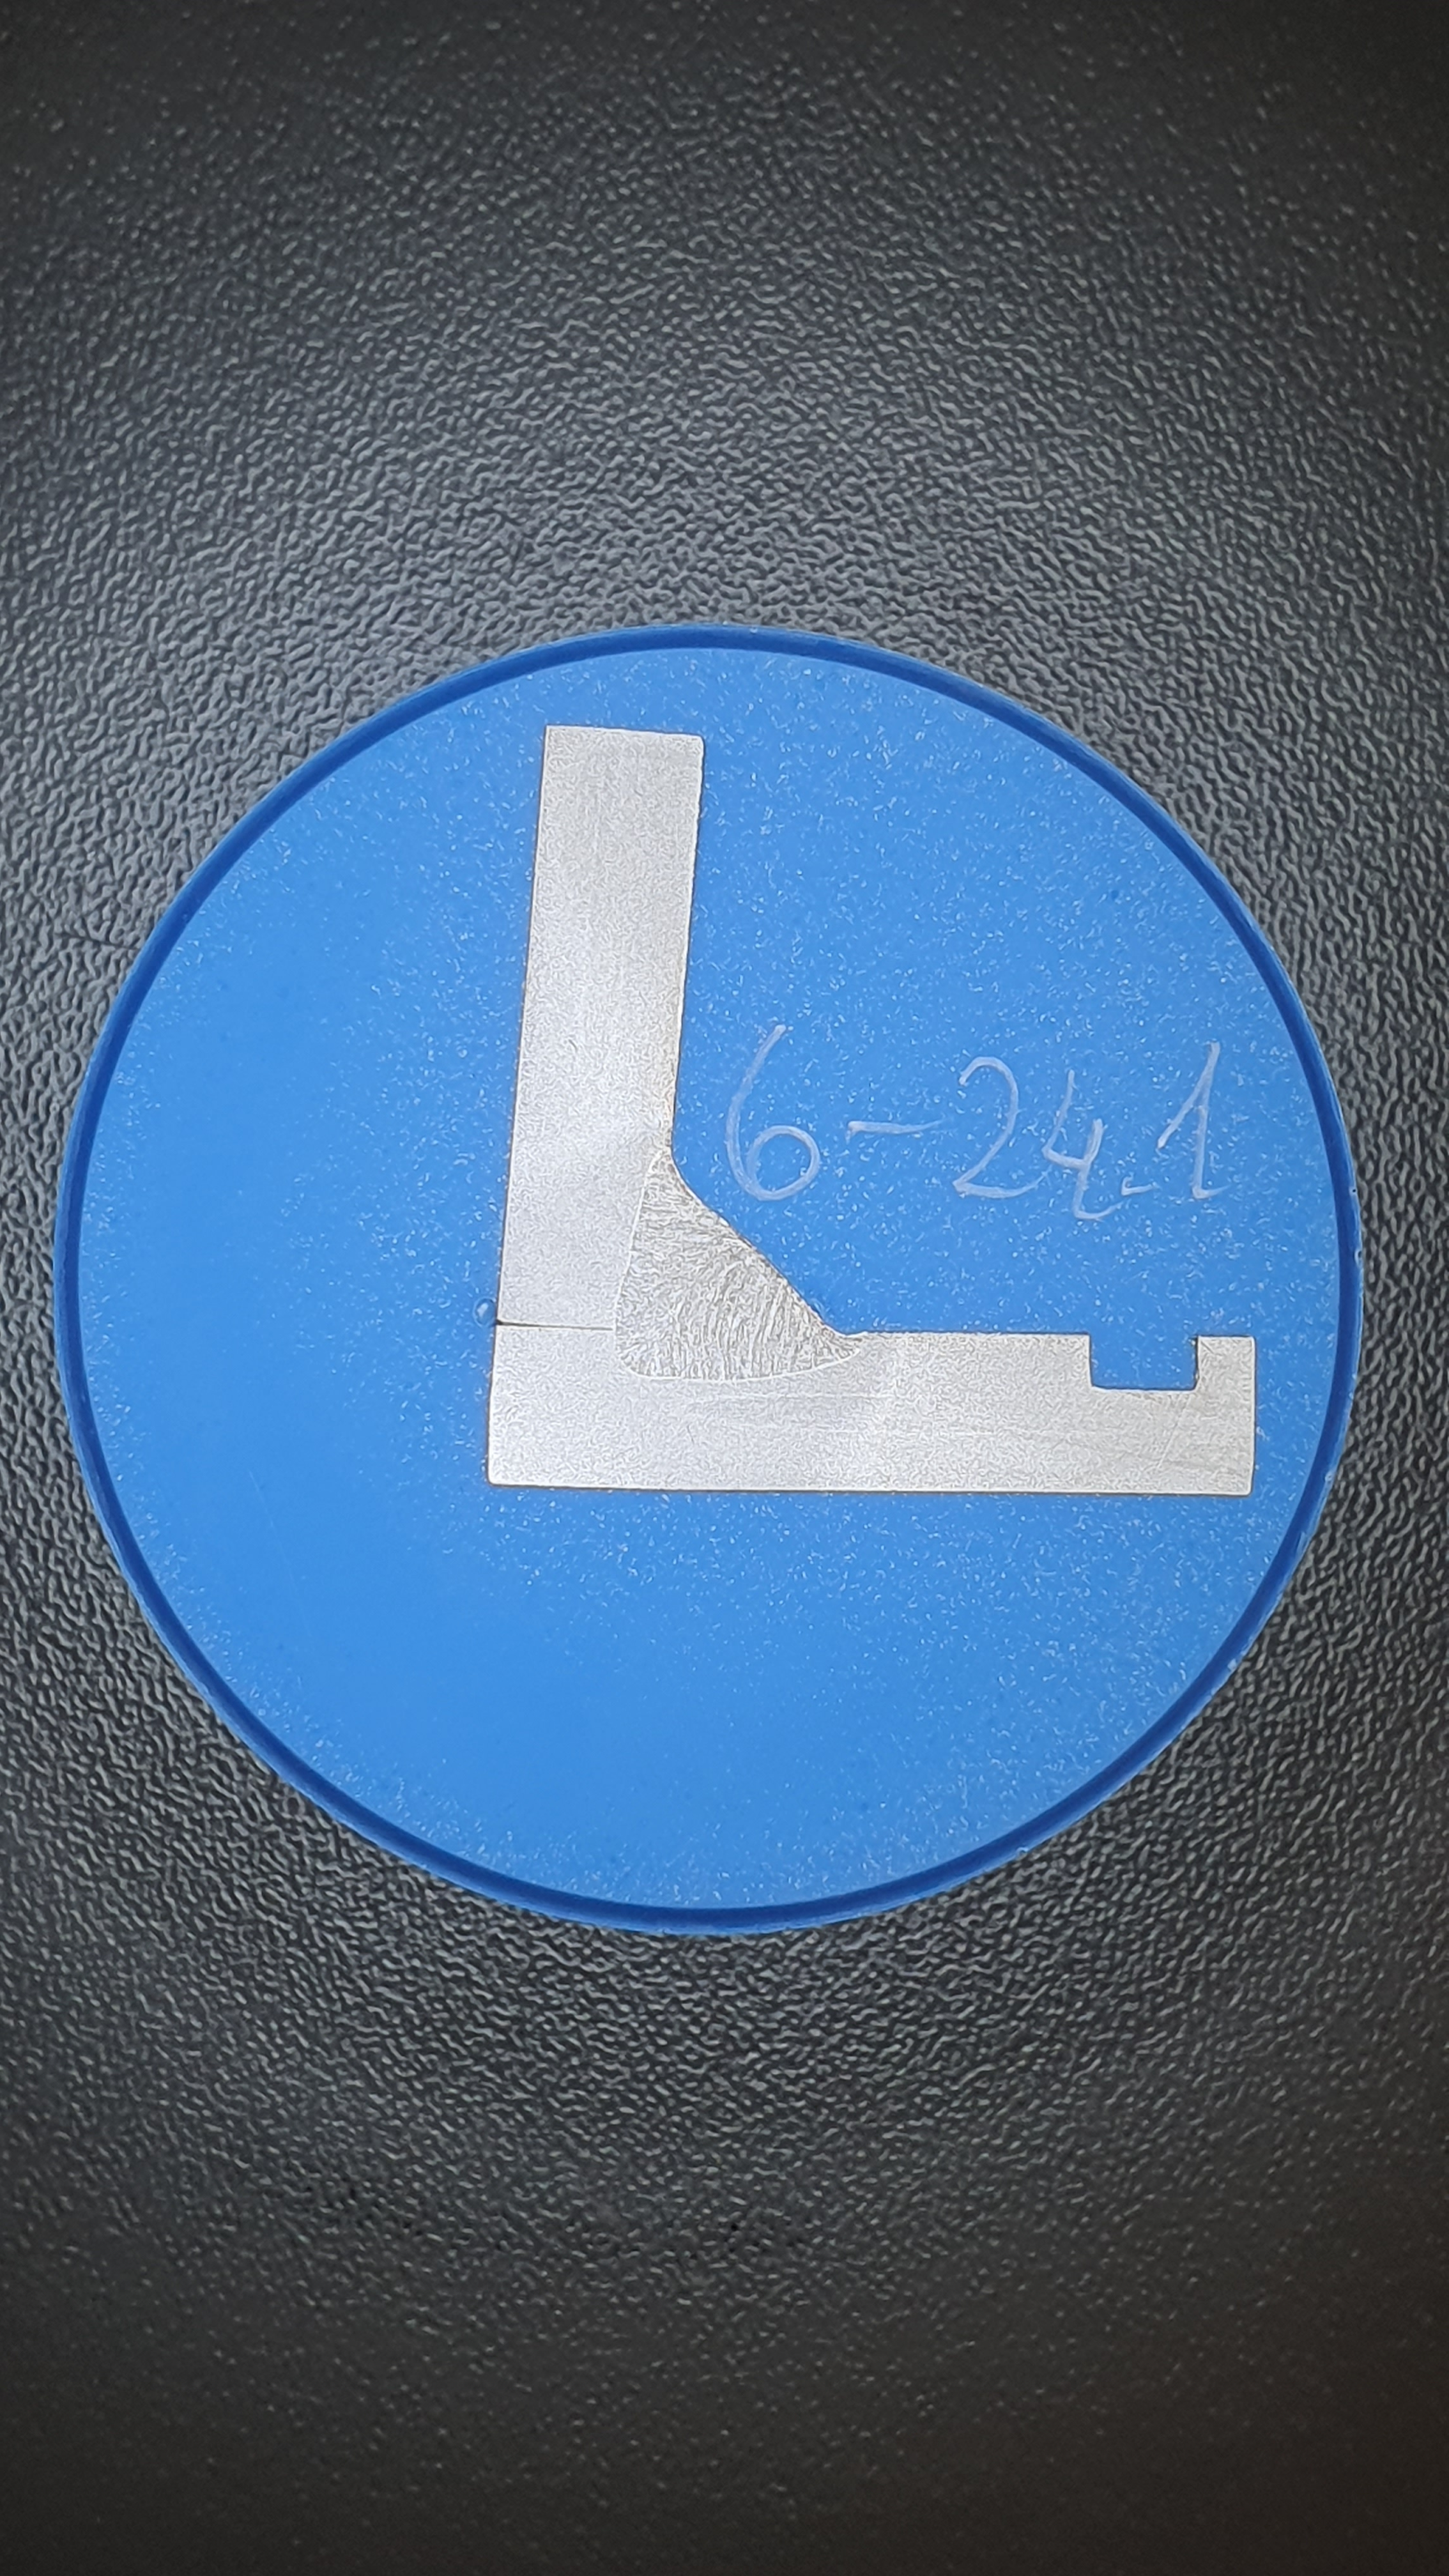Fusion: (614, 1150, 870, 1381)
Hintergrund: (77, 645, 1338, 1910)
Metall: (487, 724, 1255, 1496)
Nebenbereich: (544, 1130, 895, 1424)
